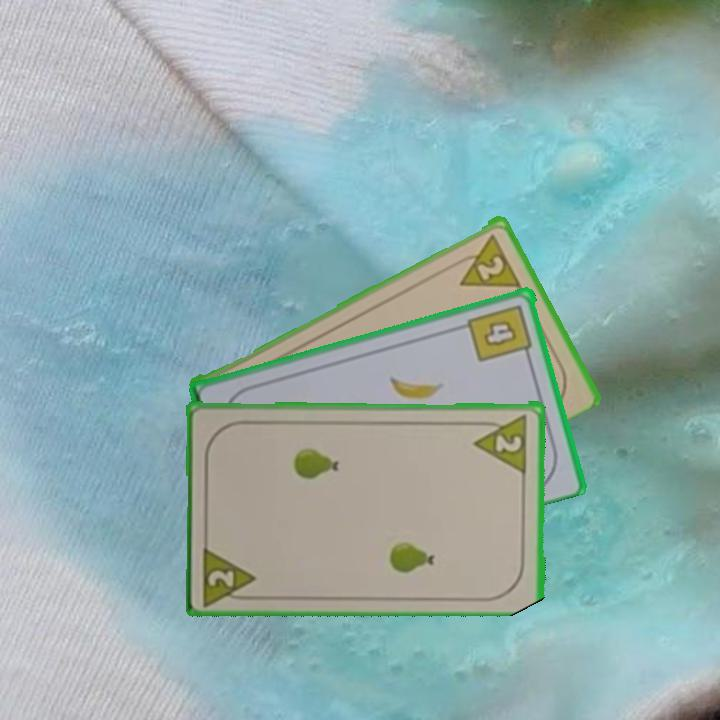2p: (448, 230, 523, 290), (199, 541, 260, 606), (471, 410, 531, 474)
4b: (465, 300, 536, 364)
